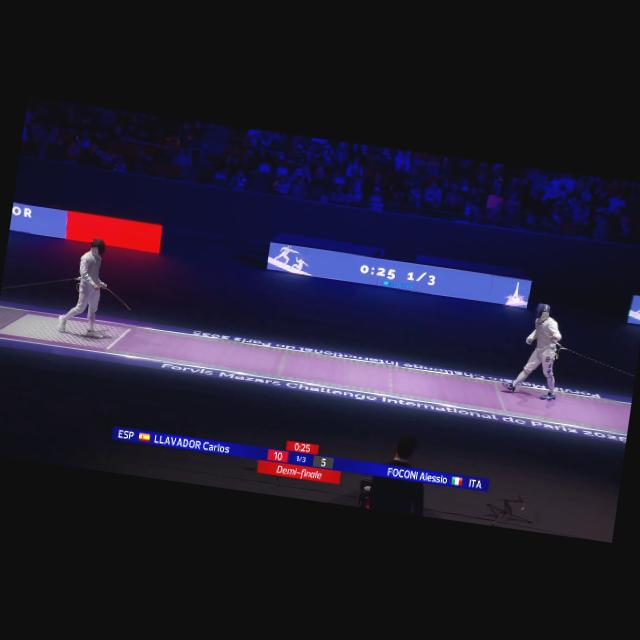blade: (95, 282, 136, 312), (529, 333, 558, 348)
